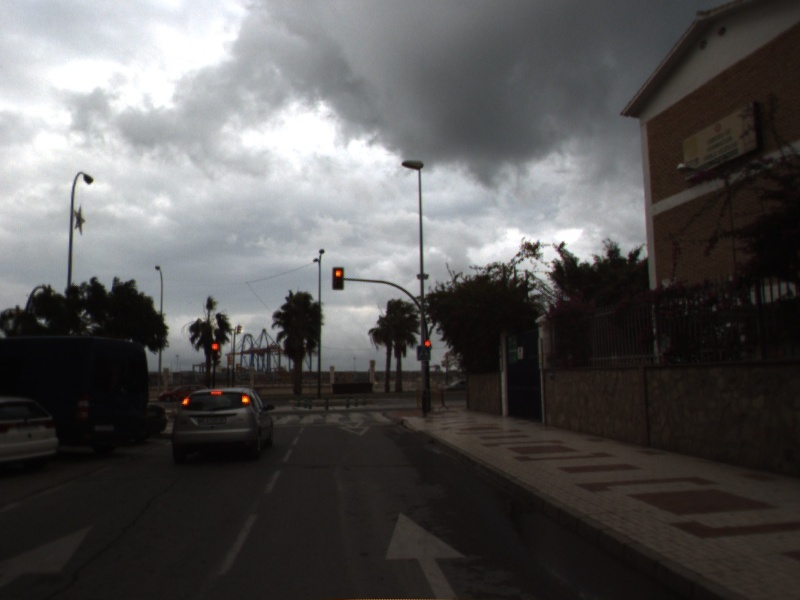STRAIGHT: (381, 508, 471, 600)
